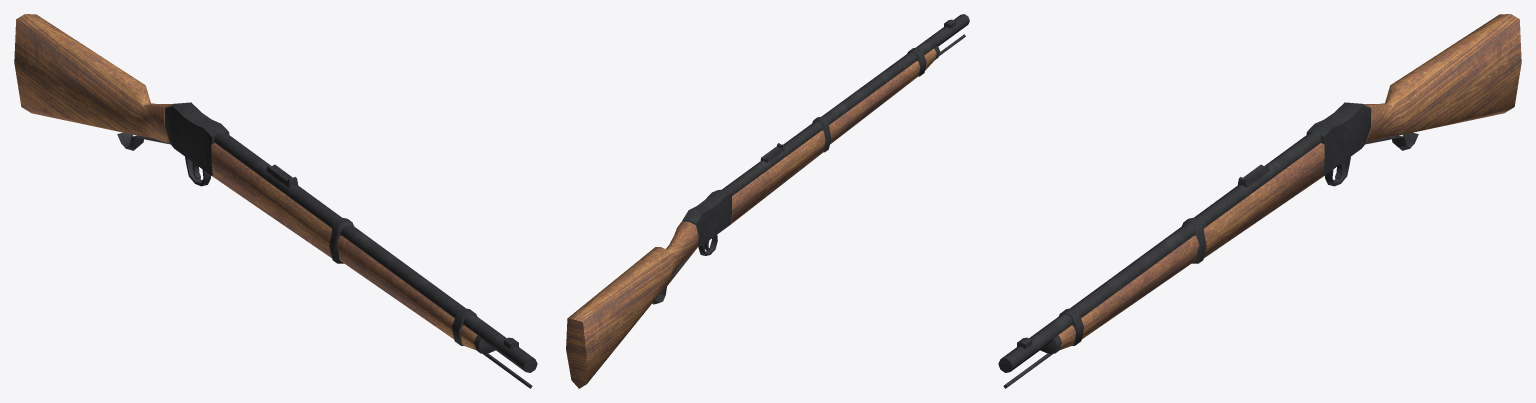
File: 1215马蒂尼亨利步枪.FBX
The picture shows the model from 3 angles, left to right: view 1: azimuth 30°, elevation 25°; view 2: azimuth 150°, elevation 25°; view 3: azimuth 330°, elevation 25°; orthographic projection. The views are drawn at different scales.
Parts seen in each view (by area): view 1: 1215_MartiniHenry; view 2: 1215_MartiniHenry; view 3: 1215_MartiniHenry.
Boxes of the visible parts, x1,y1,x2,y2 form: 1215_MartiniHenry: (14,14,537,388); 1215_MartiniHenry: (566,14,969,388); 1215_MartiniHenry: (998,14,1521,388).
Size of the model in its own units: 3.41 by 15.46 by 112.
1 material, 1 textured.
